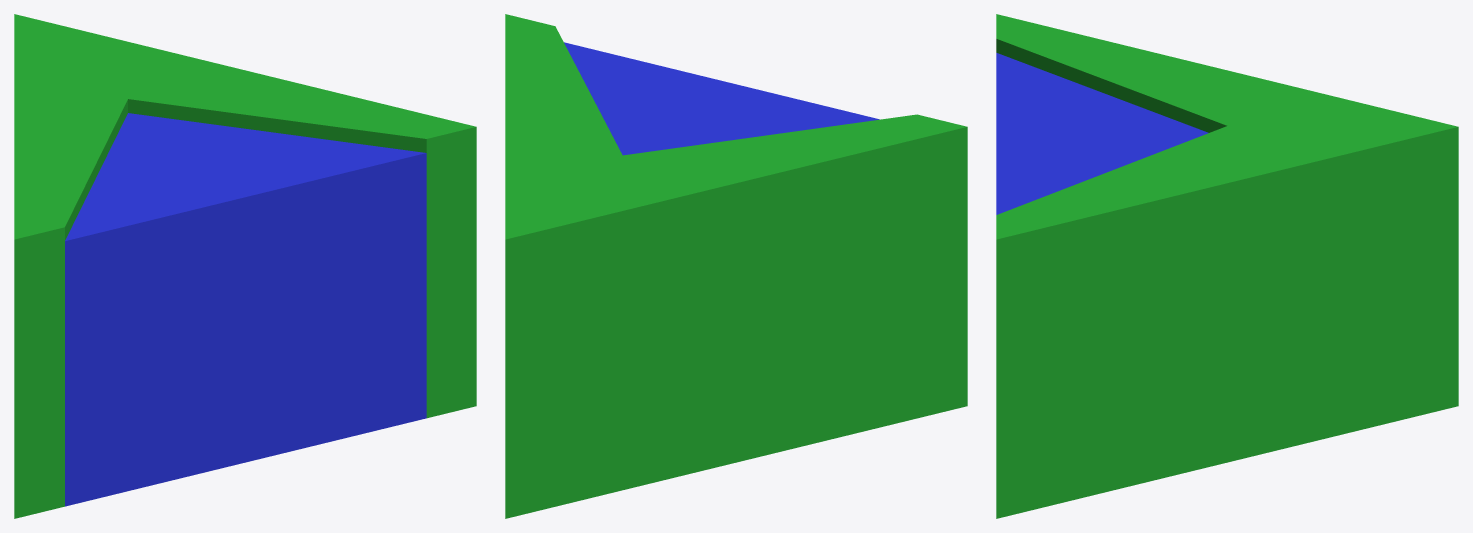
File: river-end_face.glb
3 renders of one model, left to right at view 1: azimuth 30°, elevation 25°; view 2: azimuth 150°, elevation 25°; view 3: azimuth 270°, elevation 25°, orthographic.
Parts seen in each view (by area): view 1: river-end_face; view 2: river-end_face; view 3: river-end_face.
Part boxes in pixels (left/top/right/bottom): river-end_face: left=14, top=14, right=476, bottom=518; river-end_face: left=505, top=14, right=967, bottom=518; river-end_face: left=996, top=14, right=1458, bottom=518.
Size of the model in its own units: 0.866 by 0.5 by 0.75.
